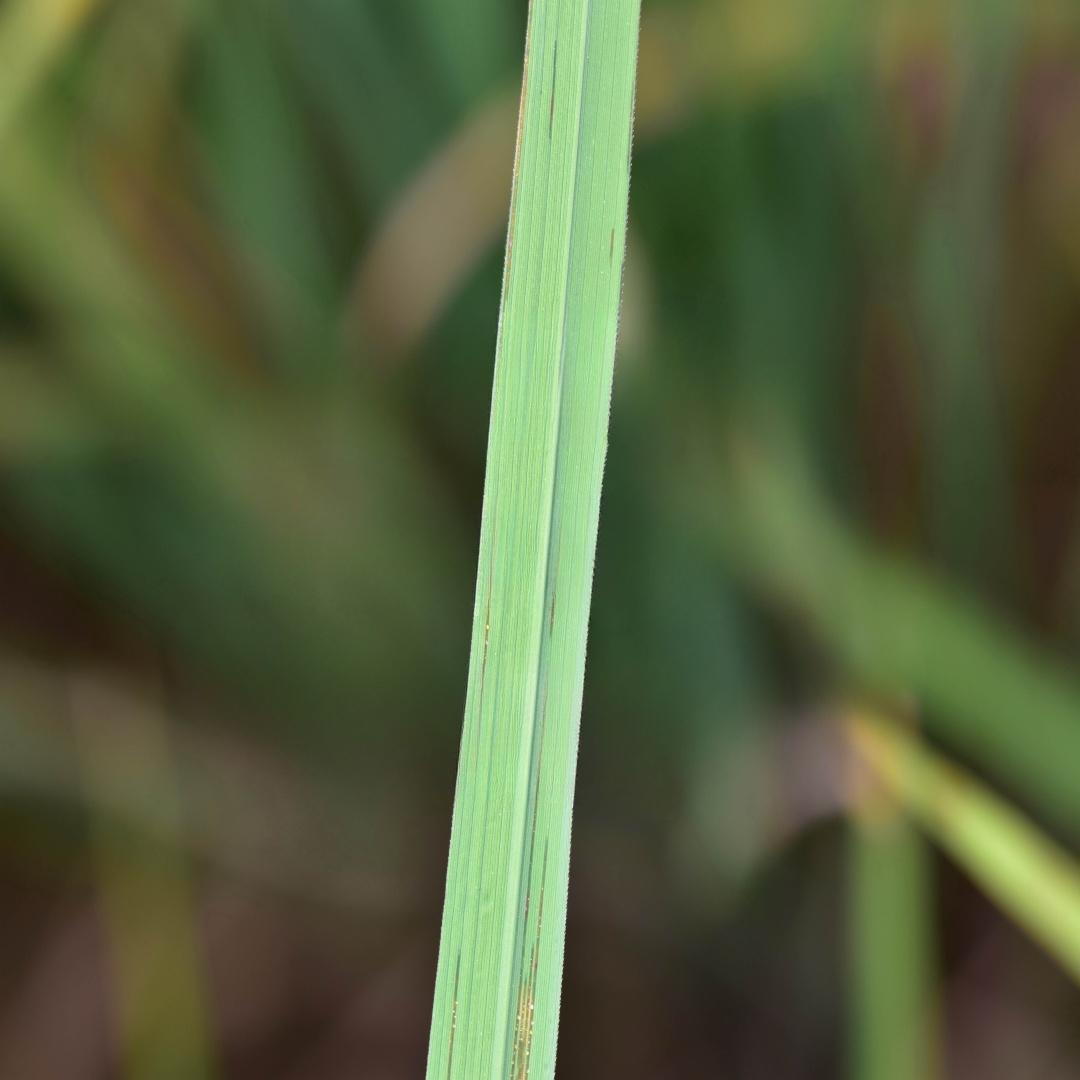BLS: (496, 0, 534, 380), (510, 749, 542, 1079), (517, 835, 548, 1079), (480, 557, 492, 725), (446, 953, 459, 1079), (549, 43, 556, 134), (549, 592, 555, 634), (609, 229, 613, 257)
